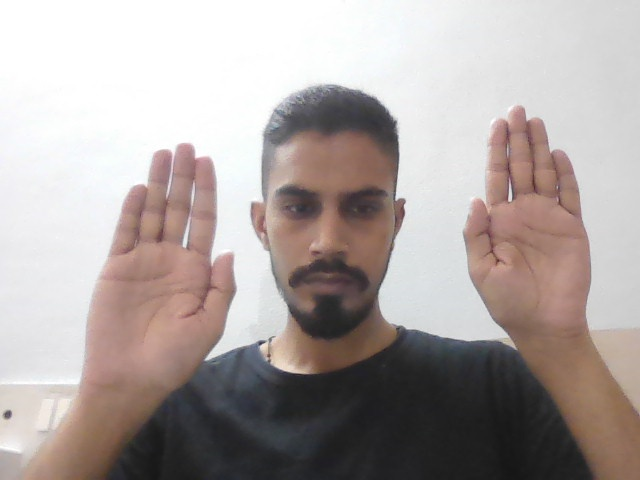Stop: (89, 134, 238, 388)
